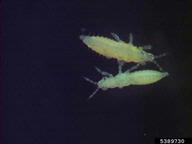Thrips: (73, 25, 172, 68), (87, 64, 175, 102)
